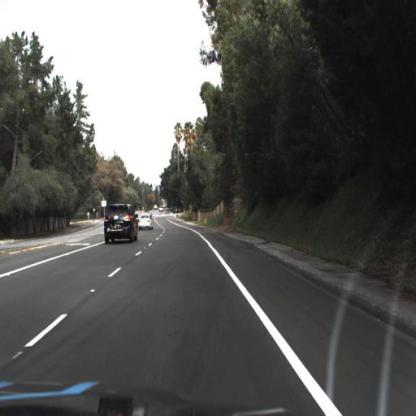car: (102, 202, 137, 246), (139, 212, 153, 228)
